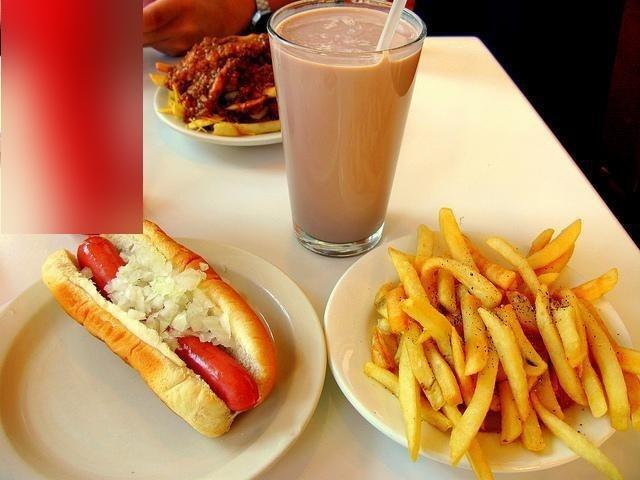glass-normal: (267, 1, 426, 257)
